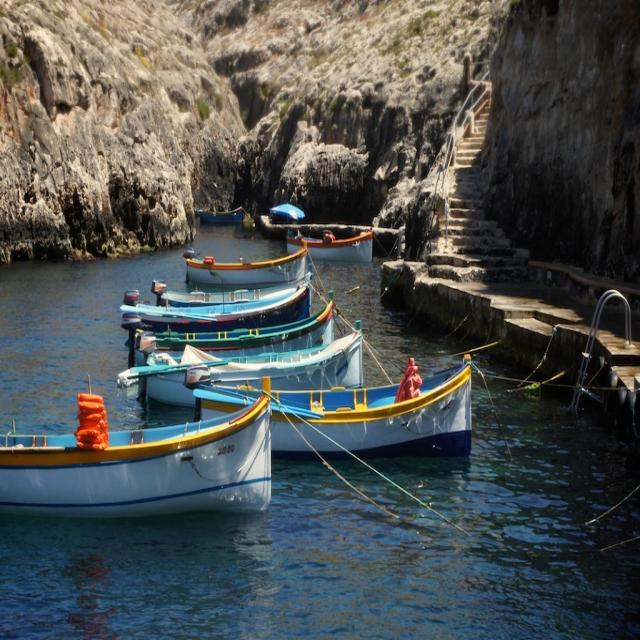Boat: (15, 322, 279, 522), (191, 348, 478, 459), (127, 312, 379, 408), (114, 264, 319, 354), (153, 274, 324, 320), (181, 257, 316, 299), (284, 222, 382, 259)
